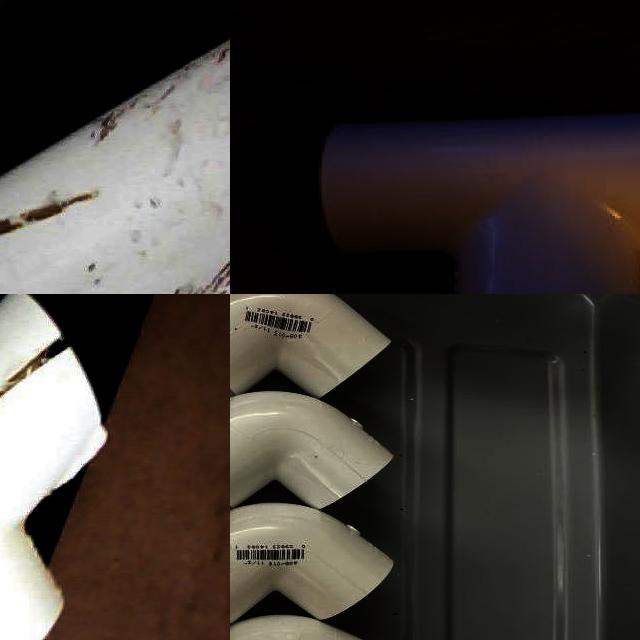Defective: (0, 194, 121, 268), (72, 70, 230, 124), (0, 333, 72, 405), (146, 254, 230, 294)
L Joint: (230, 503, 394, 622), (230, 393, 393, 510), (230, 294, 390, 399)
T Joint: (316, 112, 640, 294), (0, 38, 230, 294)
